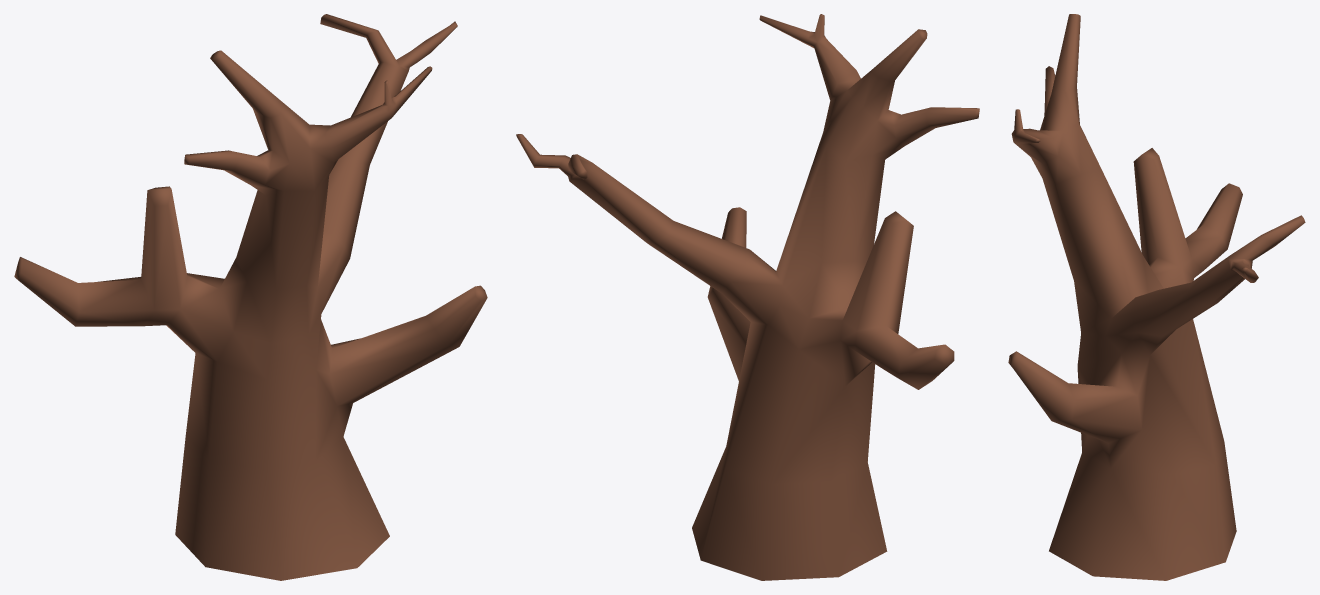
Rendered from Arvore_11.fbx.
The picture shows the model from 3 angles, left to right: view 1: azimuth 30°, elevation 25°; view 2: azimuth 150°, elevation 25°; view 3: azimuth 270°, elevation 25°; orthographic projection. The views are drawn at different scales.
Parts seen in each view (by area): view 1: Arvore_11; view 2: Arvore_11; view 3: Arvore_11.
Boxes of the visible parts, x1,y1,x2,y2 form: Arvore_11: (14,14,487,580); Arvore_11: (516,14,979,580); Arvore_11: (1008,14,1305,580).
Bounding box in the file's own units: 2.76 × 4.35 × 4.96.
